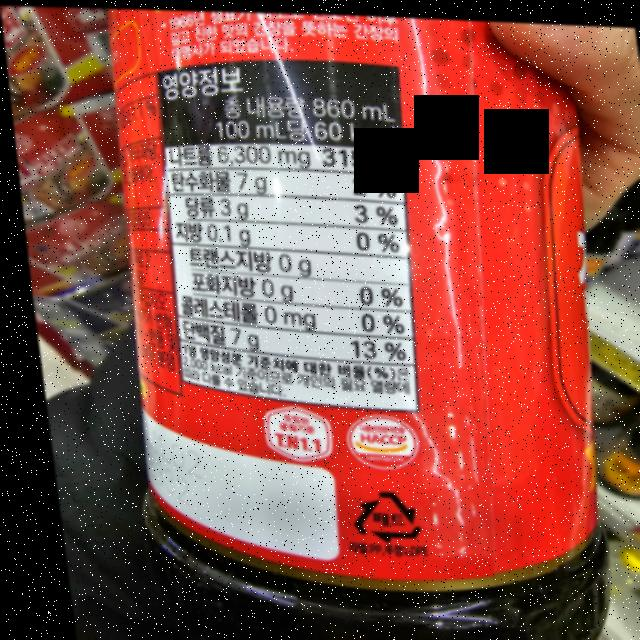PET: (332, 482, 416, 542)
